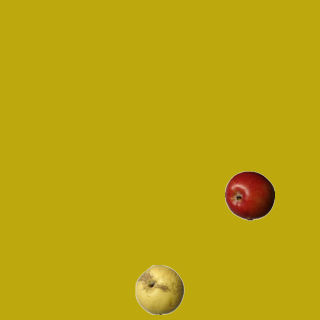Apple Braeburn: (224, 170, 274, 220)
Apple Golden 1: (134, 264, 184, 314)
